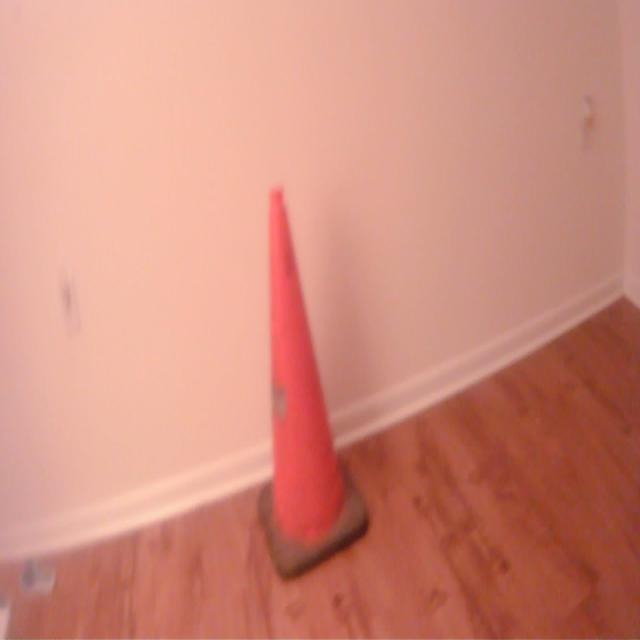traffic cone: (254, 180, 376, 592)
